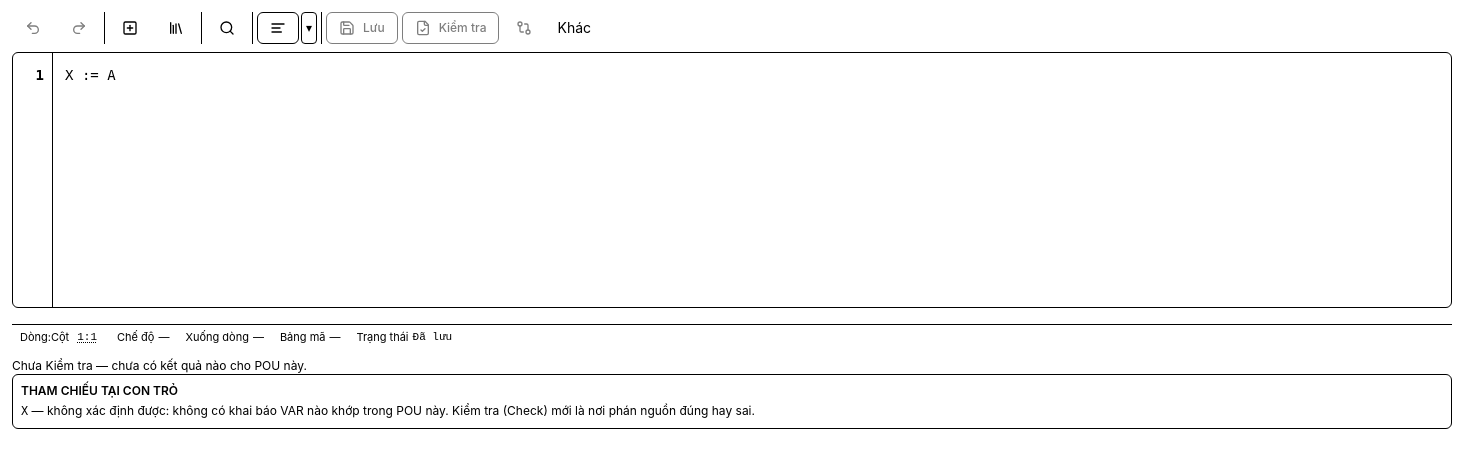
Scenario: SourceEditor — WP-10 P0 (CTO/Owner approval 2026-08-15 §4-6) › Autocomplete chấp nhận: DOM value/selection cập nhật đồng bộ ngay sau Enter chọn gợi ý
Replace the text in the text box named "Mã nguồn ST" with "X := AB" at (752, 180), box [53,53,1451,307]
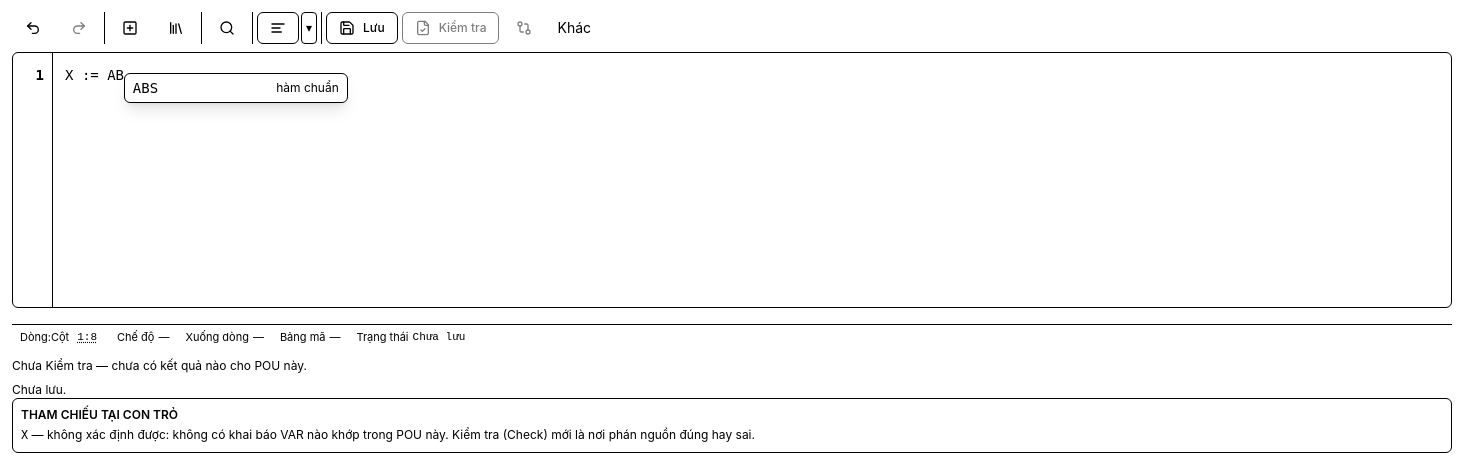
Press Enter in the text box named "Mã nguồn ST", box [53,53,1451,307]
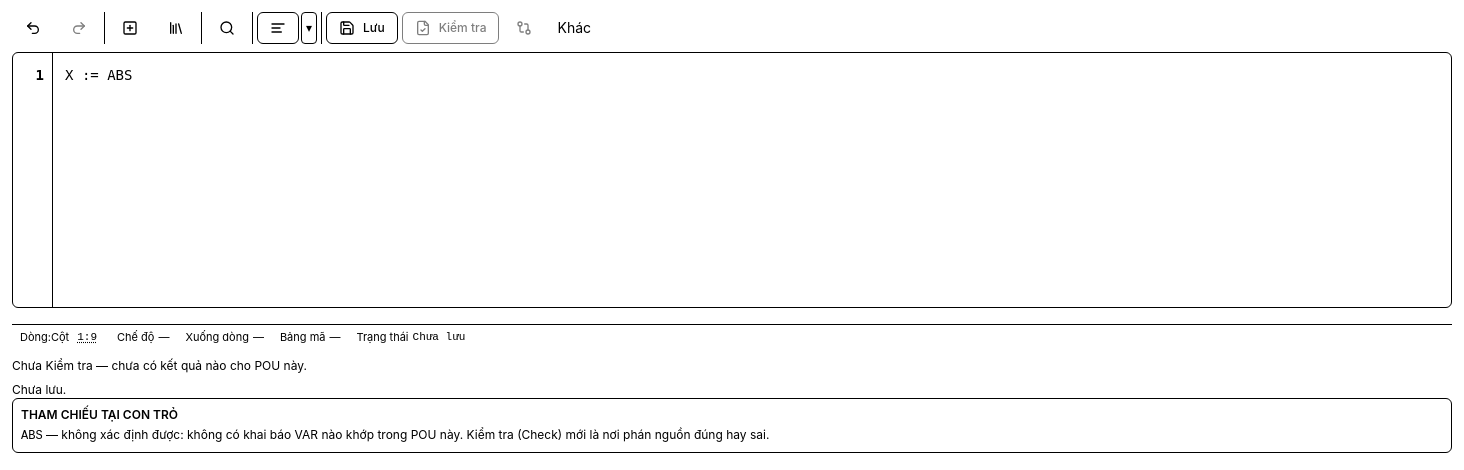
Check: the text box named "Mã nguồn ST" holds "X := ABS", box [53,53,1451,307]
Check: the element with test id "editor-status-position" shows "1:9", box [73,329,101,346]
